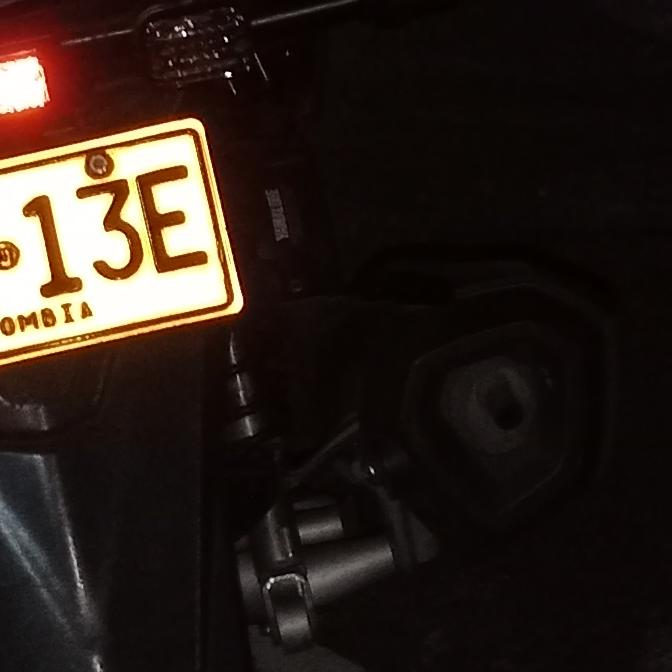plates: (0, 117, 246, 369)
